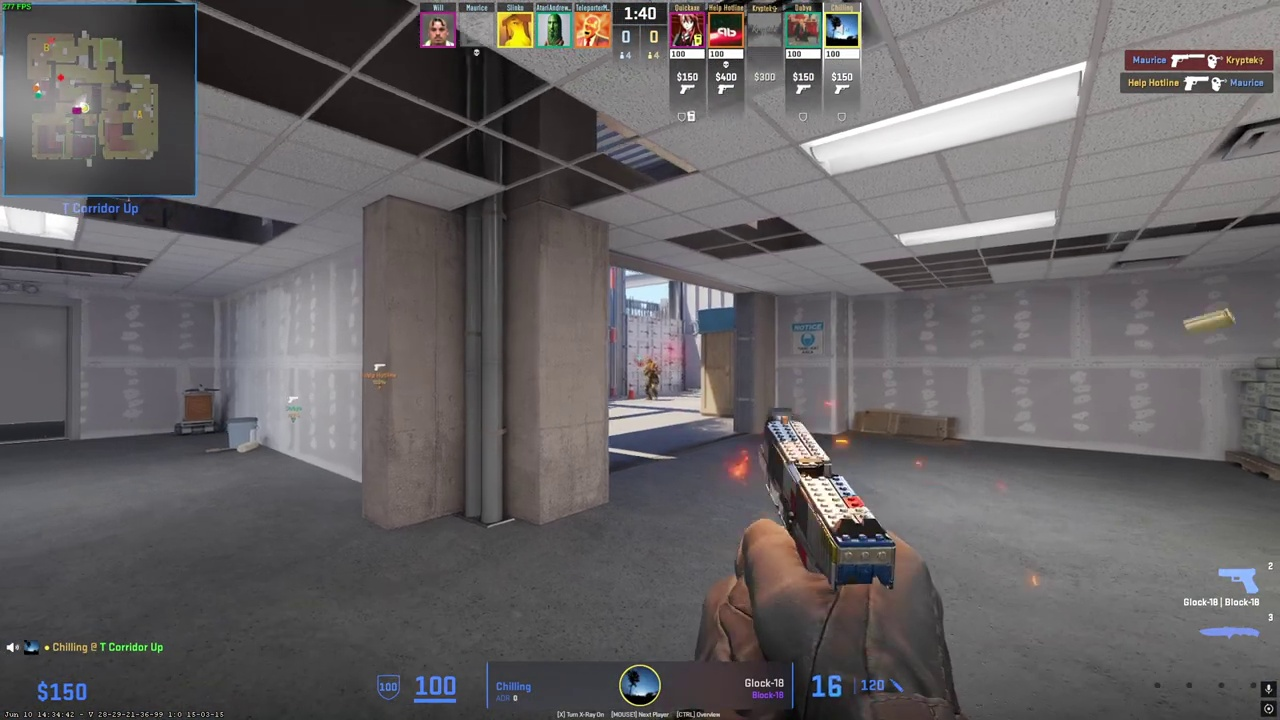CT: (644, 359, 659, 400)
